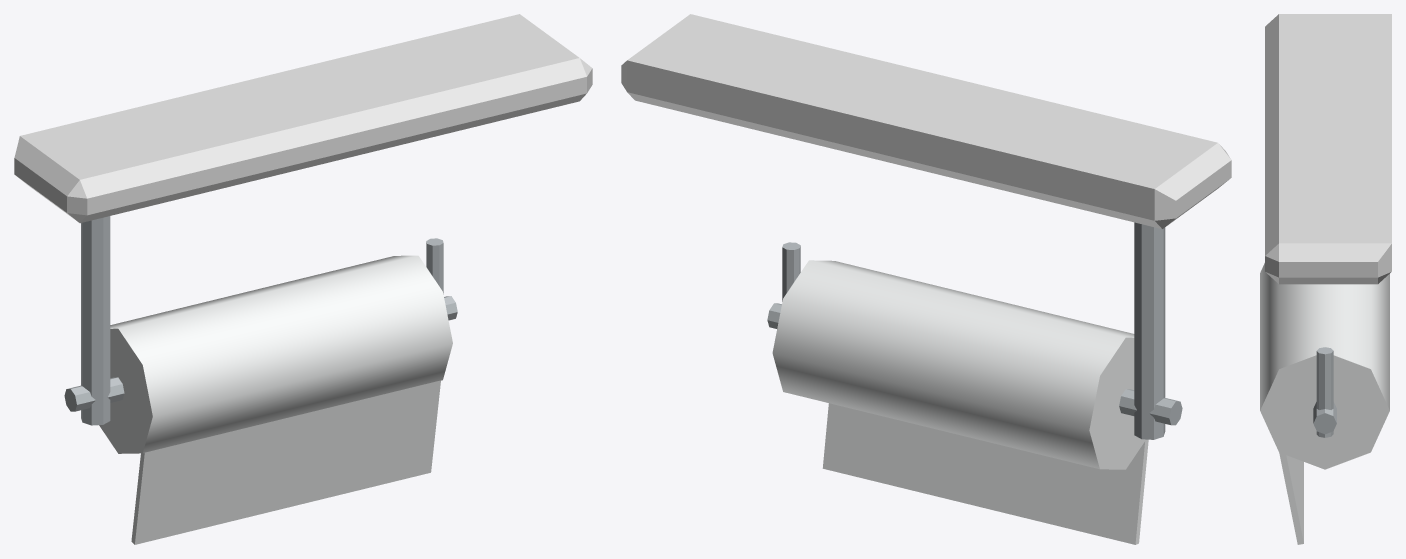
File: Paper-Towel.fbx
3 renders of one model, left to right at view 1: azimuth 30°, elevation 25°; view 2: azimuth 150°, elevation 25°; view 3: azimuth 270°, elevation 25°, orthographic. The views are drawn at different scales.
Parts seen in each view (by area): view 1: Paper-Towel, Towel-Napkin-Hanger; view 2: Paper-Towel, Towel-Napkin-Hanger; view 3: Towel-Napkin-Hanger, Paper-Towel.
Boxes of the visible parts, x1,y1,x2,y2 form: Paper-Towel: [99, 255, 452, 544]; Towel-Napkin-Hanger: [14, 14, 592, 425]; Paper-Towel: [772, 260, 1148, 544]; Towel-Napkin-Hanger: [621, 14, 1231, 439]; Towel-Napkin-Hanger: [1265, 14, 1391, 437]; Paper-Towel: [1260, 263, 1389, 544].
Size of the model in its own units: 0.5502 by 0.3885 by 0.1271.
